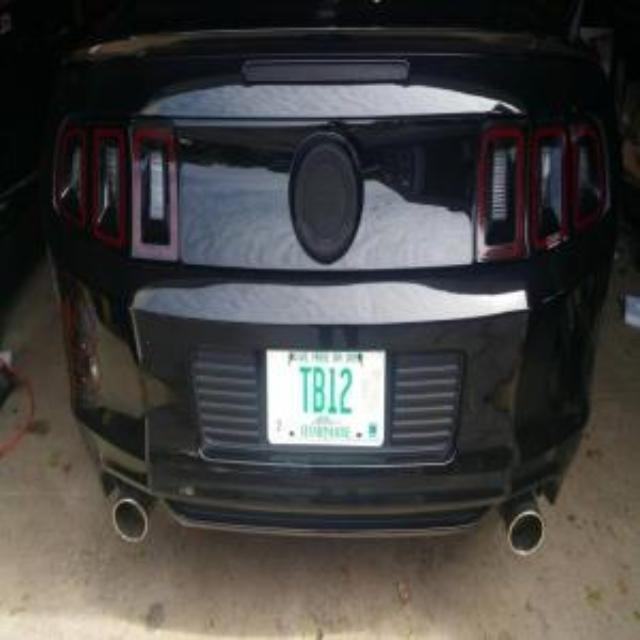License Plate: (268, 348, 388, 445)
